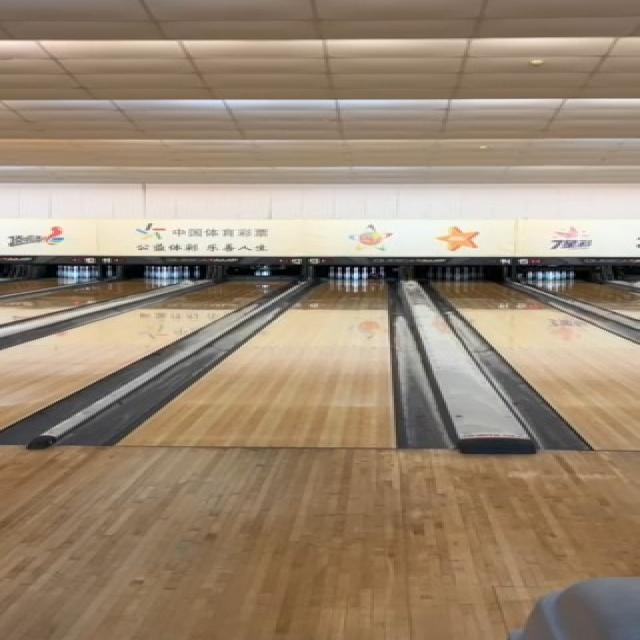alley: (122, 282, 395, 447)
balls: (367, 273, 383, 282)
bottle: (332, 266, 386, 280)
